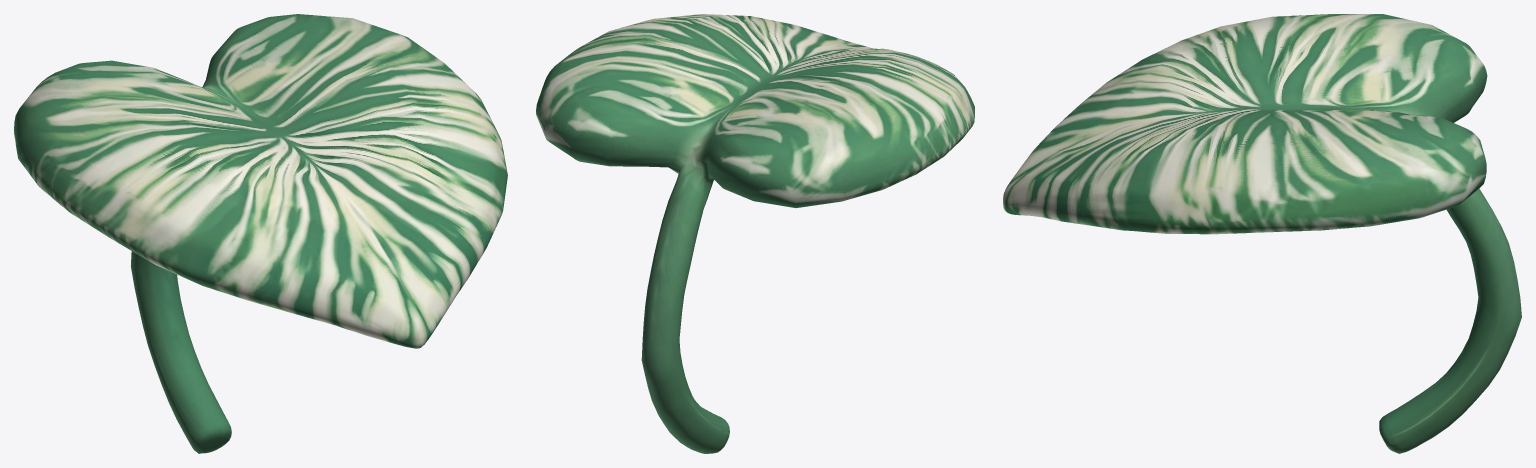
File: pothos_cream_marble_v1.glb
The picture shows the model from 3 angles, left to right: view 1: azimuth 30°, elevation 25°; view 2: azimuth 150°, elevation 25°; view 3: azimuth 270°, elevation 25°; orthographic projection. The views are drawn at different scales.
Bounding box in the file's own units: 1.71 × 1.57 × 2.
1 material, 1 textured.
